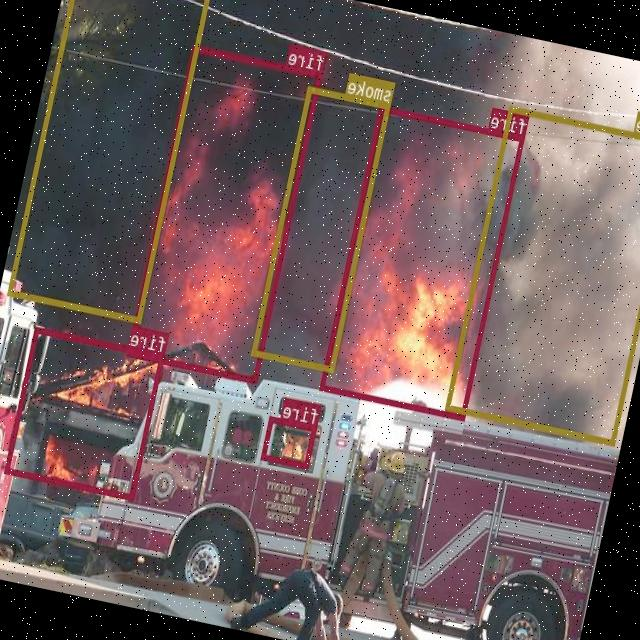fire: (128, 45, 323, 382), (320, 104, 526, 419), (4, 326, 166, 499), (261, 415, 318, 468)
smoke: (446, 105, 640, 444), (8, 0, 211, 322), (252, 86, 391, 372)
